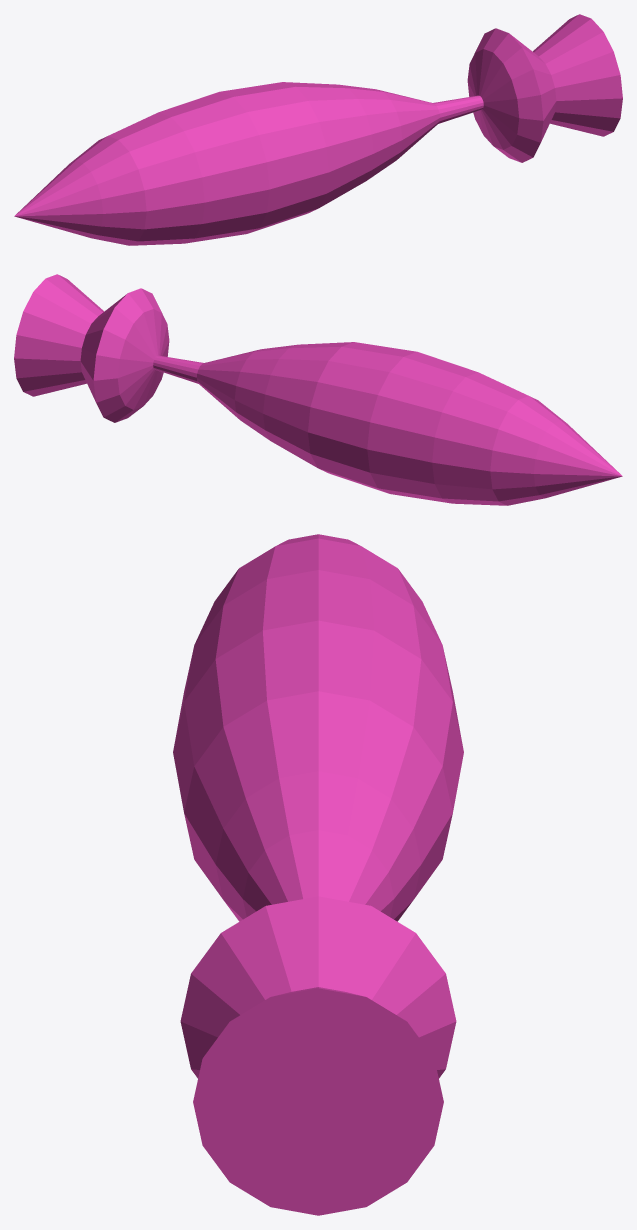
Rendered from bomb03.fbx.
The picture shows the model from 3 angles, top to bottom: view 1: azimuth 30°, elevation 25°; view 2: azimuth 150°, elevation 25°; view 3: azimuth 270°, elevation 25°; orthographic projection. The views are drawn at different scales.
Visible parts, largest first — view 1: Sphere; view 2: Sphere; view 3: Sphere.
Part boxes in pixels (x1,y1,x2,y2): Sphere: (14, 14, 622, 245); Sphere: (14, 274, 622, 505); Sphere: (173, 534, 463, 1215).
Size of the model in its own units: 170 by 37.15 by 37.15.
